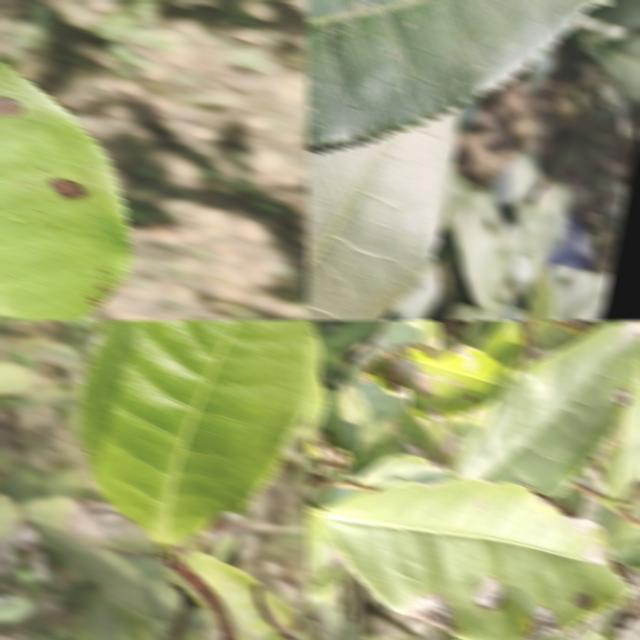Leaf: (80, 320, 308, 546), (319, 479, 639, 640), (306, 0, 608, 148), (0, 62, 131, 320), (456, 320, 640, 497), (306, 110, 459, 320), (327, 320, 442, 466), (359, 341, 509, 418), (182, 551, 295, 640), (64, 542, 181, 620), (20, 495, 157, 557), (447, 202, 505, 311), (601, 354, 640, 500), (306, 515, 351, 602), (76, 591, 154, 640), (355, 454, 456, 488), (598, 32, 640, 103), (491, 151, 541, 206), (306, 583, 344, 640), (480, 320, 522, 370), (327, 320, 386, 353), (531, 320, 588, 349), (524, 267, 555, 320), (0, 361, 38, 396)
